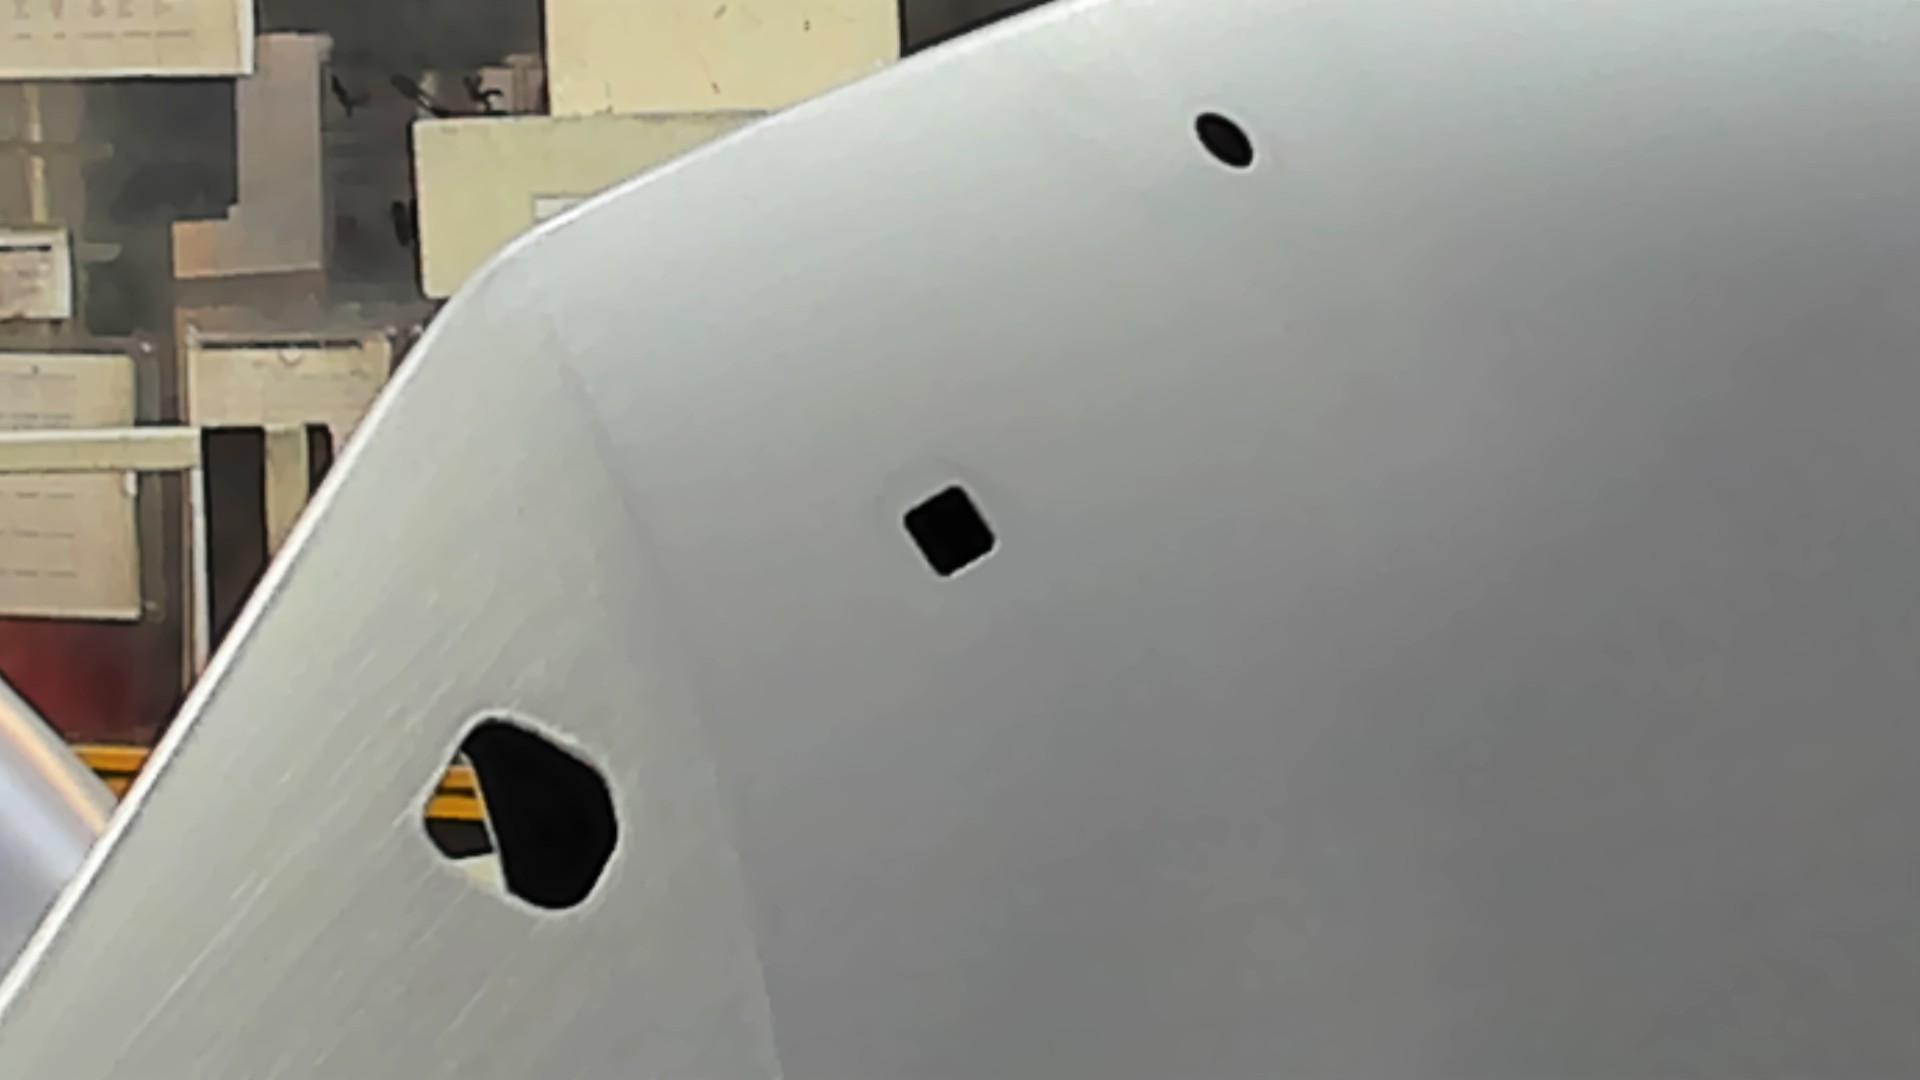capo: (1007, 183, 1920, 1080)
chico: (1189, 105, 1257, 174)
grande: (410, 709, 630, 923)
mediano: (901, 481, 1002, 582)
